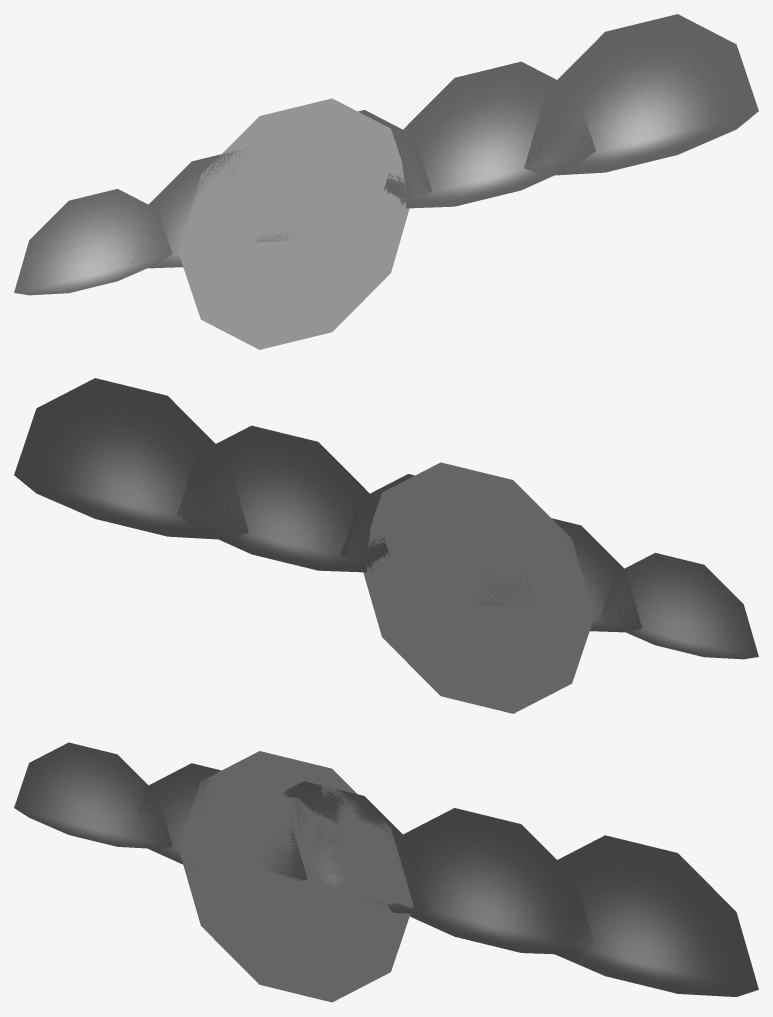
Rendered from LPP00.fbx.
3 views of the same model, one above another, from view 1: azimuth 30°, elevation 25°; view 2: azimuth 150°, elevation 25°; view 3: azimuth 330°, elevation 25° (orthographic).
Visible parts, largest first — view 1: LPP04_Half, LPP03_Half, LPP00, LPP00_Half, LPP03, LPP04, LPP04_AlphaEdgeThin, LPP02, LPP01, LPP03_AlphaEdgeThin, LPP02_AlphaEdgeThin, LPP01_Half (+11 smaller); view 2: LPP04_Half, LPP03_Half, LPP02, LPP00_Half, LPP00, LPP04, LPP04_AlphaEdgeThin, LPP03, LPP02_AlphaEdgeThin, LPP01_Half, LPP03_AlphaEdgeThin, LPP01 (+13 smaller); view 3: LPP04_Half, LPP03_Half, LPP03, LPP00_Half, LPP04, LPP02, LPP02_Half, LPP01_Half, LPP00, LPP03_AlphaEdgeThin, LPP01, LPP02_AlphaEdgeThin (+13 smaller).
Boxes of the visible parts, left/top/right/bottom form: LPP04_Half: left=524, top=14, right=758, bottom=175; LPP03_Half: left=383, top=61, right=595, bottom=208; LPP00: left=217, top=140, right=374, bottom=302; LPP00_Half: left=14, top=188, right=171, bottom=295; LPP03: left=188, top=108, right=398, bottom=338; LPP04: left=178, top=98, right=409, bottom=349; LPP04_AlphaEdgeThin: left=179, top=99, right=408, bottom=349; LPP02: left=198, top=121, right=376, bottom=328; LPP01: left=208, top=129, right=342, bottom=305; LPP03_AlphaEdgeThin: left=188, top=109, right=398, bottom=322; LPP02_AlphaEdgeThin: left=199, top=130, right=373, bottom=327; LPP01_Half: left=131, top=148, right=252, bottom=268; LPP04_Half: left=14, top=378, right=248, bottom=539; LPP03_Half: left=177, top=425, right=389, bottom=572; LPP02: left=396, top=485, right=574, bottom=692; LPP00_Half: left=601, top=552, right=758, bottom=659; LPP00: left=398, top=504, right=554, bottom=657; LPP04: left=363, top=462, right=594, bottom=713; LPP04_AlphaEdgeThin: left=364, top=463, right=594, bottom=713; LPP03: left=374, top=472, right=540, bottom=703; LPP02_AlphaEdgeThin: left=399, top=494, right=574, bottom=691; LPP01_Half: left=503, top=518, right=642, bottom=632; LPP03_AlphaEdgeThin: left=374, top=473, right=563, bottom=703; LPP01: left=430, top=493, right=510, bottom=635; LPP04_Half: left=550, top=835, right=758, bottom=996; LPP03_Half: left=397, top=808, right=595, bottom=954; LPP03: left=188, top=772, right=398, bottom=992; LPP00_Half: left=14, top=742, right=172, bottom=848; LPP04: left=178, top=751, right=412, bottom=1002; LPP02: left=198, top=776, right=393, bottom=967; LPP02_Half: left=283, top=781, right=431, bottom=913; LPP01_Half: left=134, top=763, right=307, bottom=880; LPP00: left=217, top=792, right=330, bottom=961; LPP03_AlphaEdgeThin: left=190, top=780, right=398, bottom=991; LPP01: left=210, top=782, right=365, bottom=969; LPP02_AlphaEdgeThin: left=200, top=786, right=393, bottom=964.
Bounding box in the file's own units: 3.63 × 1.09 × 0.
